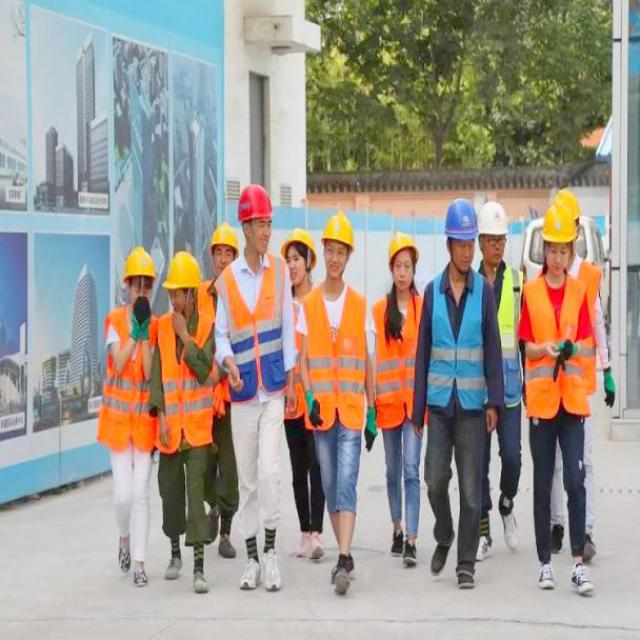gloves: (596, 355, 620, 423), (362, 391, 382, 464), (128, 294, 153, 350), (298, 384, 320, 427), (553, 338, 582, 362)
helmet: (160, 235, 208, 328), (232, 173, 276, 264), (540, 180, 580, 279), (116, 236, 158, 316), (276, 225, 321, 292), (318, 201, 350, 294), (386, 221, 417, 303), (445, 197, 478, 274), (482, 192, 510, 272), (212, 214, 236, 278)
vest: (217, 268, 290, 411), (301, 294, 364, 445), (532, 278, 584, 422), (158, 325, 214, 454), (369, 290, 422, 424), (432, 274, 481, 411), (106, 309, 148, 452), (495, 278, 521, 406)
